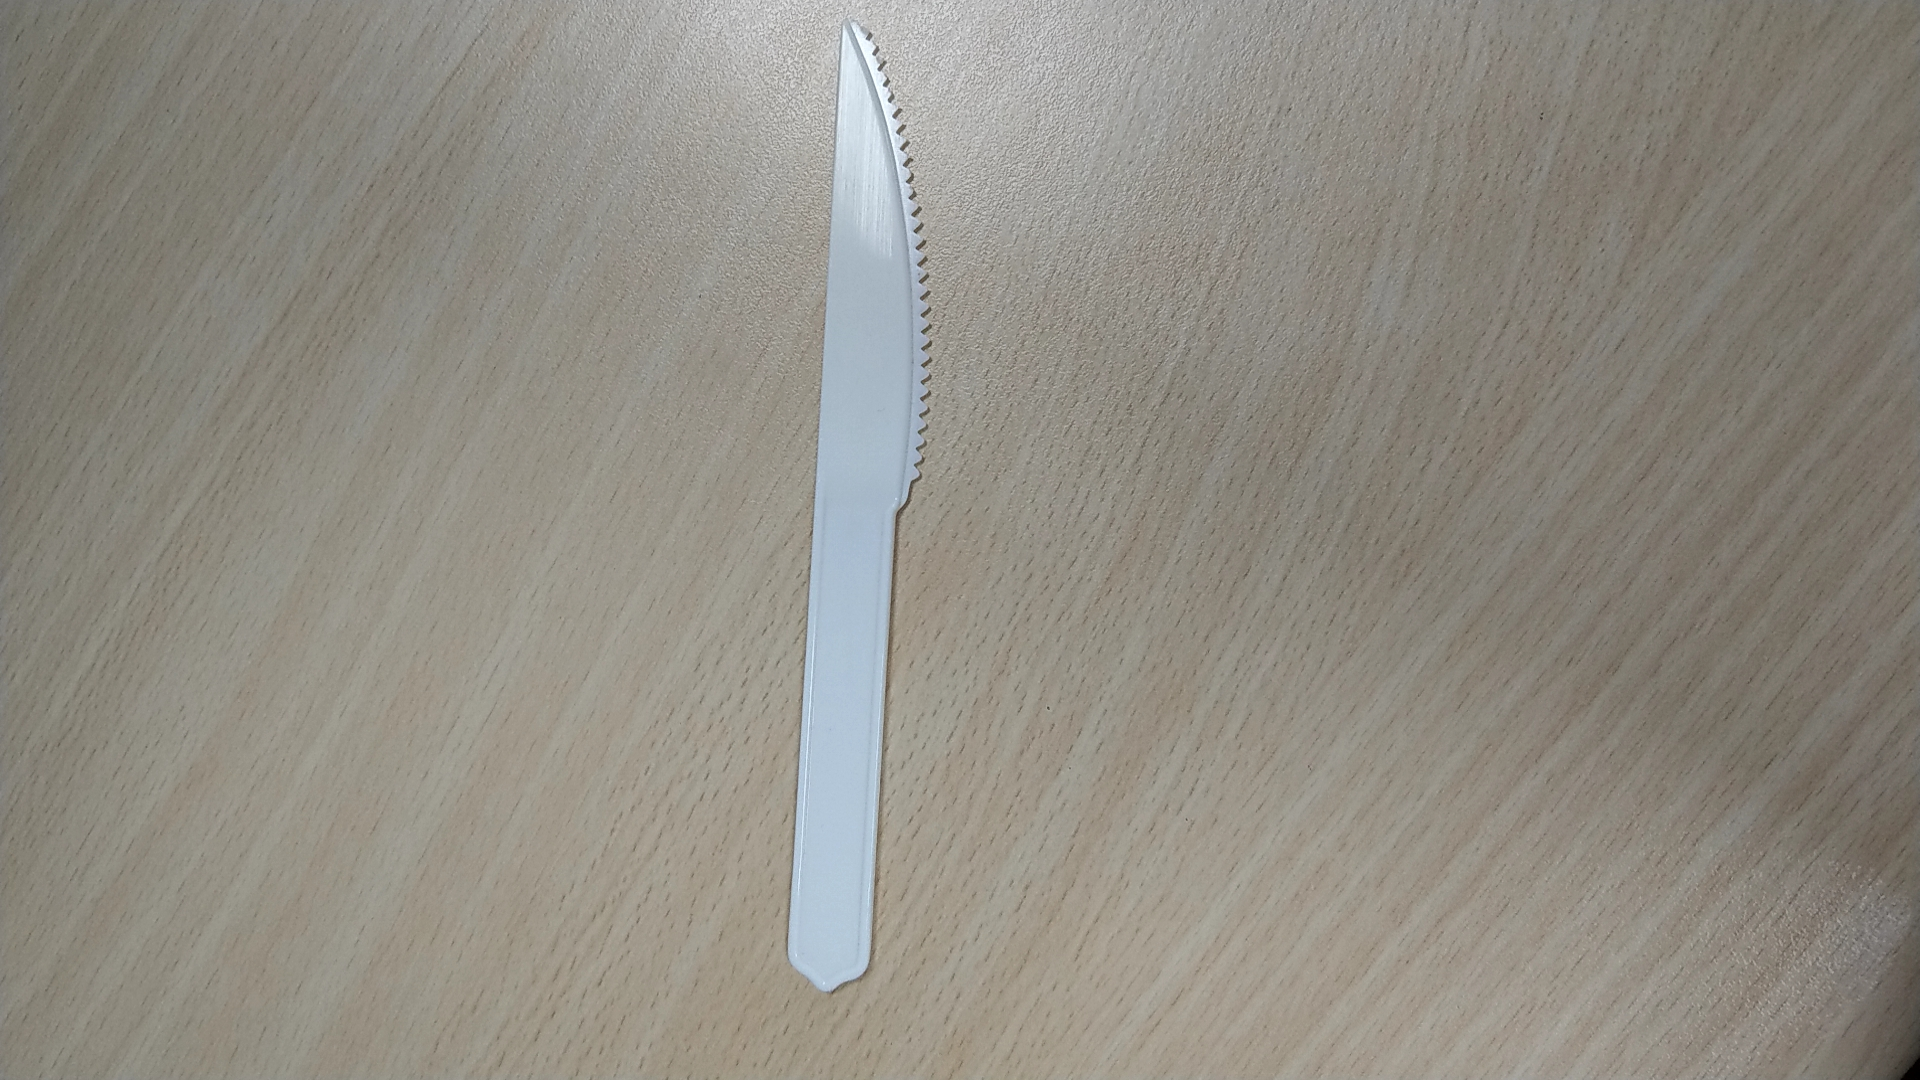knife: (779, 9, 947, 1011)
